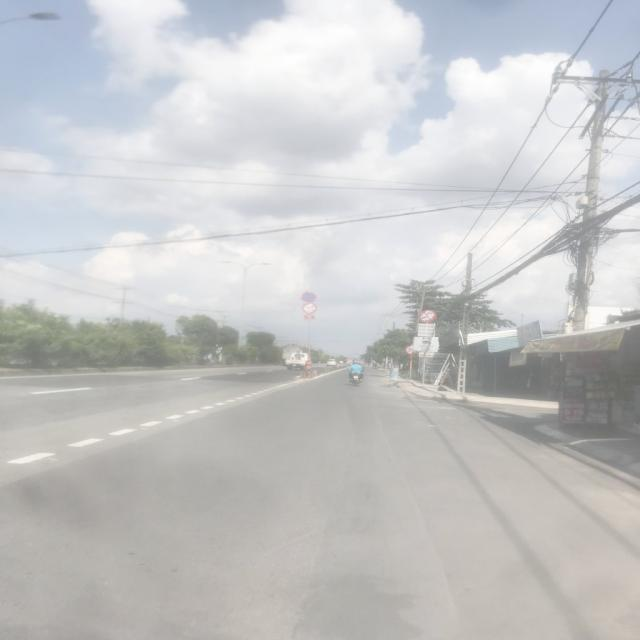107-cam-oto-khach-va-oto-tai: (419, 310, 437, 322)
